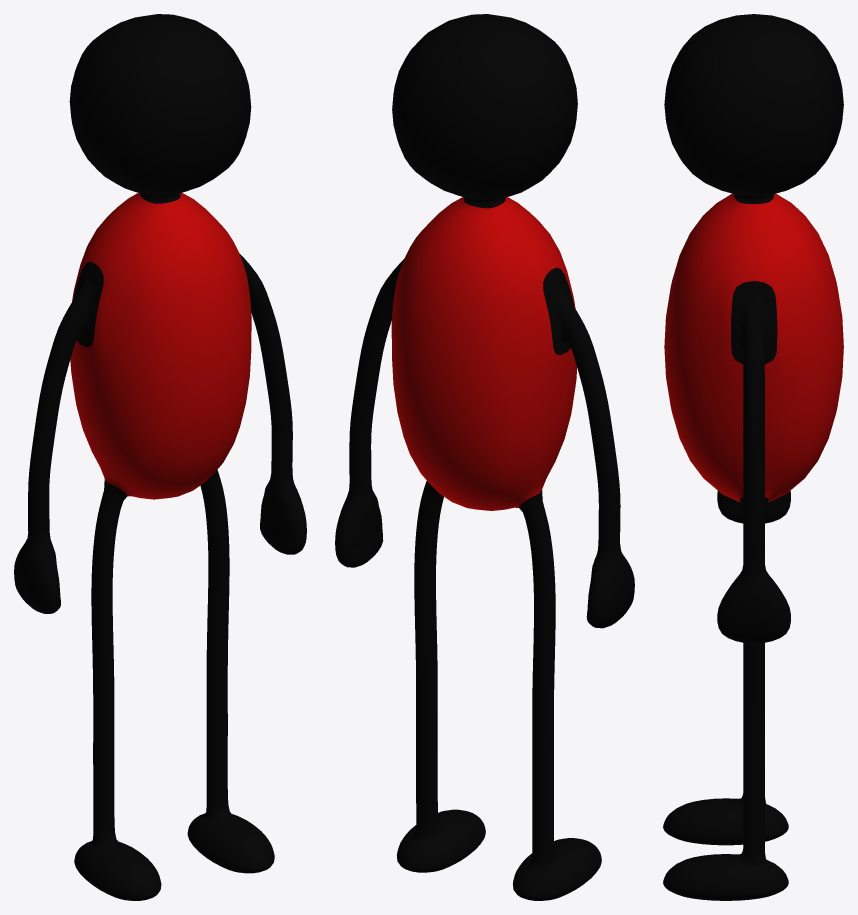
File: stickman.fbx
3 views of the same model, side by side, from view 1: azimuth 30°, elevation 25°; view 2: azimuth 150°, elevation 25°; view 3: azimuth 270°, elevation 25° (orthographic). The views are drawn at different scales.
Parts seen in each view (by area): view 1: cheast; view 2: cheast; view 3: cheast.
Boxes of the visible parts, box(x1,y1,x2,y2) form: cheast: box(14, 14, 306, 900); cheast: box(335, 14, 634, 900); cheast: box(663, 14, 843, 900).
Bounding box in the file's own units: 0.3379 × 0.9909 × 0.1924.
